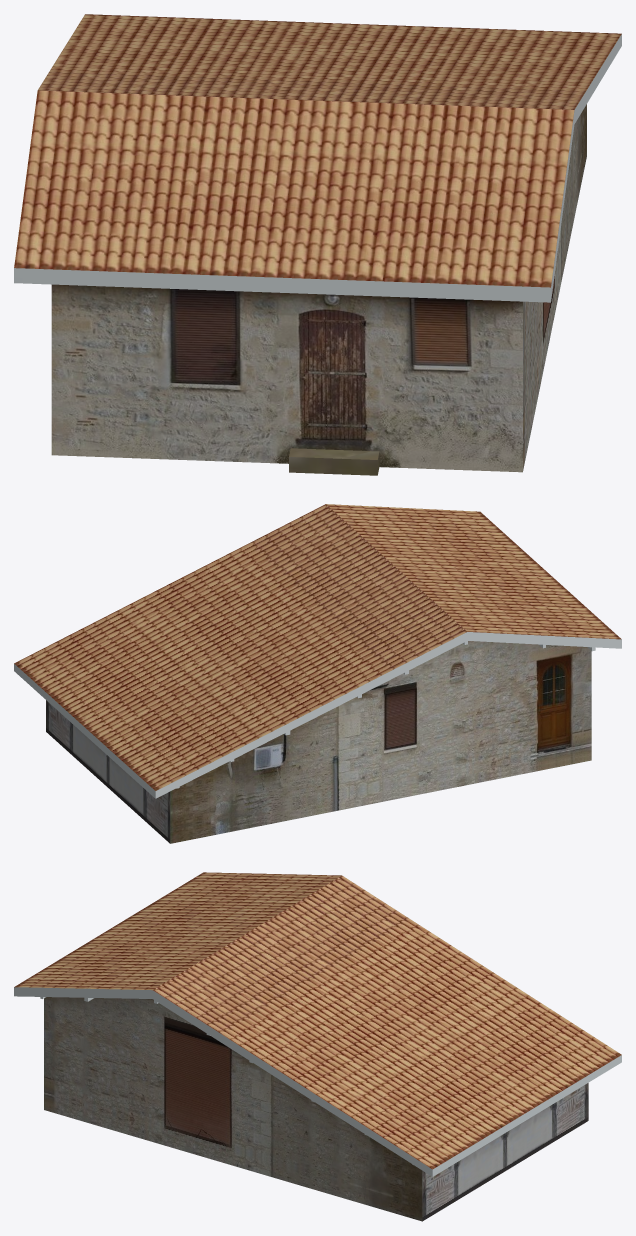
The picture shows the model from 3 angles, top to bottom: view 1: azimuth 30°, elevation 25°; view 2: azimuth 150°, elevation 25°; view 3: azimuth 270°, elevation 25°; orthographic projection. The views are drawn at different scales.
Visible parts, largest first — view 1: SketchUp.002_ID30, SketchUp.023_ID237, SketchUp.003_ID45, SketchUp_ID3, SketchUp.039_ID398, SketchUp.024_ID252; view 2: SketchUp.003_ID45, SketchUp.018_ID191, SketchUp.002_ID30, SketchUp_ID3, SketchUp.004_ID55; view 3: SketchUp.003_ID45, SketchUp.039_ID398, SketchUp.002_ID30, SketchUp.004_ID55, SketchUp_ID3.
Part boxes in pixels (x1,y1,x2,y2): SketchUp.002_ID30: (14, 90, 574, 287); SketchUp.023_ID237: (51, 284, 522, 472); SketchUp.003_ID45: (38, 14, 621, 109); SketchUp_ID3: (14, 34, 621, 302); SketchUp.039_ID398: (523, 104, 586, 470); SketchUp.024_ID252: (289, 448, 379, 475); SketchUp.003_ID45: (14, 504, 466, 790); SketchUp.018_ID191: (170, 641, 591, 843); SketchUp.002_ID30: (326, 504, 621, 639); SketchUp_ID3: (14, 504, 621, 798); SketchUp.004_ID55: (46, 700, 170, 843); SketchUp.003_ID45: (153, 875, 621, 1169); SketchUp.039_ID398: (44, 997, 422, 1221); SketchUp.002_ID30: (14, 872, 341, 990); SketchUp.004_ID55: (422, 1083, 588, 1221); SketchUp_ID3: (14, 987, 621, 1176).
Size of the model in its own units: 15.17 by 4.81 by 16.37.
Materials: 11 (7 with a texture image).
